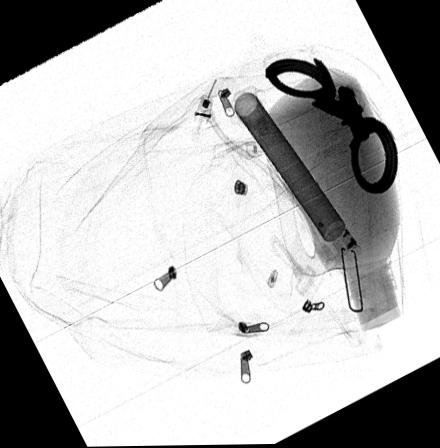HandCuffs: (265, 57, 398, 196)
